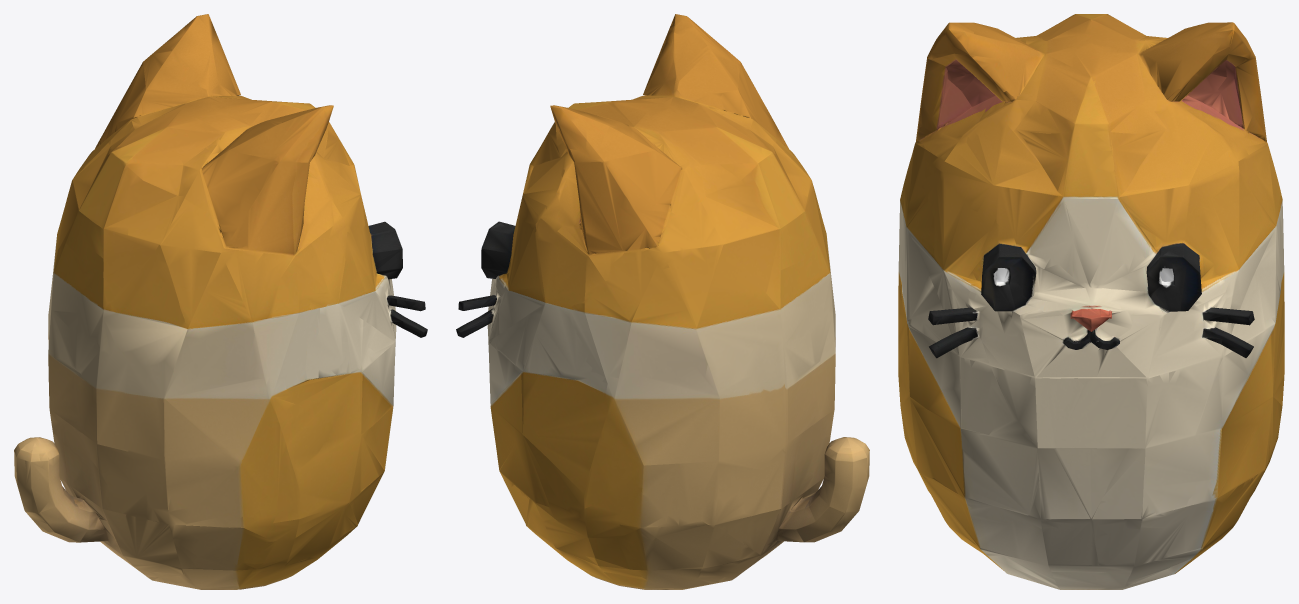
File: cat_v3.fbx
3 renders of one model, left to right at view 1: azimuth 30°, elevation 25°; view 2: azimuth 150°, elevation 25°; view 3: azimuth 270°, elevation 25°, orthographic. The views are drawn at different scales.
Visible parts, largest first — view 1: tripo_node_5fb6d897; view 2: tripo_node_5fb6d897; view 3: tripo_node_5fb6d897.
Boxes of the visible parts, x1=… form: tripo_node_5fb6d897: x1=14, y1=14, x2=427, y2=589; tripo_node_5fb6d897: x1=456, y1=14, x2=869, y2=589; tripo_node_5fb6d897: x1=898, y1=14, x2=1284, y2=589.
Bounding box in the file's own units: 78.39 × 97.82 × 62.98.
